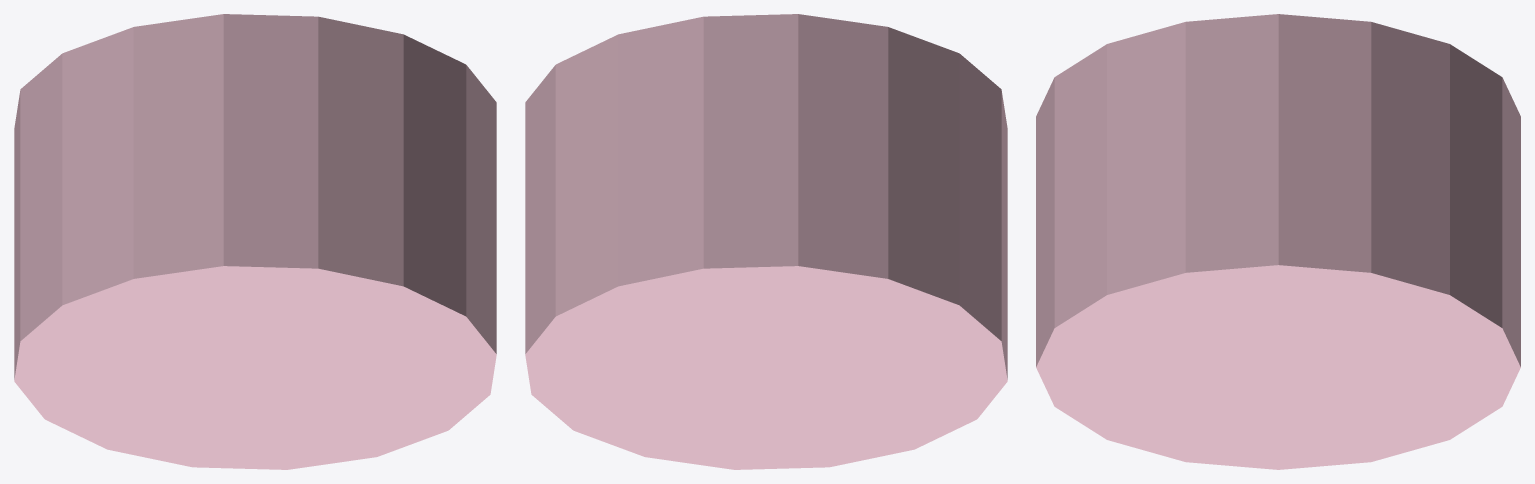
Rendered from cake.glb.
3 renders of one model, left to right at view 1: azimuth 30°, elevation 25°; view 2: azimuth 150°, elevation 25°; view 3: azimuth 270°, elevation 25°, orthographic.
Visible parts, largest first — view 1: Cake; view 2: Cake; view 3: Cake.
Boxes of the visible parts, x1,y1,x2,y2 form: Cake: (14,14,496,469); Cake: (525,14,1007,469); Cake: (1036,14,1520,469).
Bounding box in the file's own units: 1.4 × 0.8 × 1.4.
